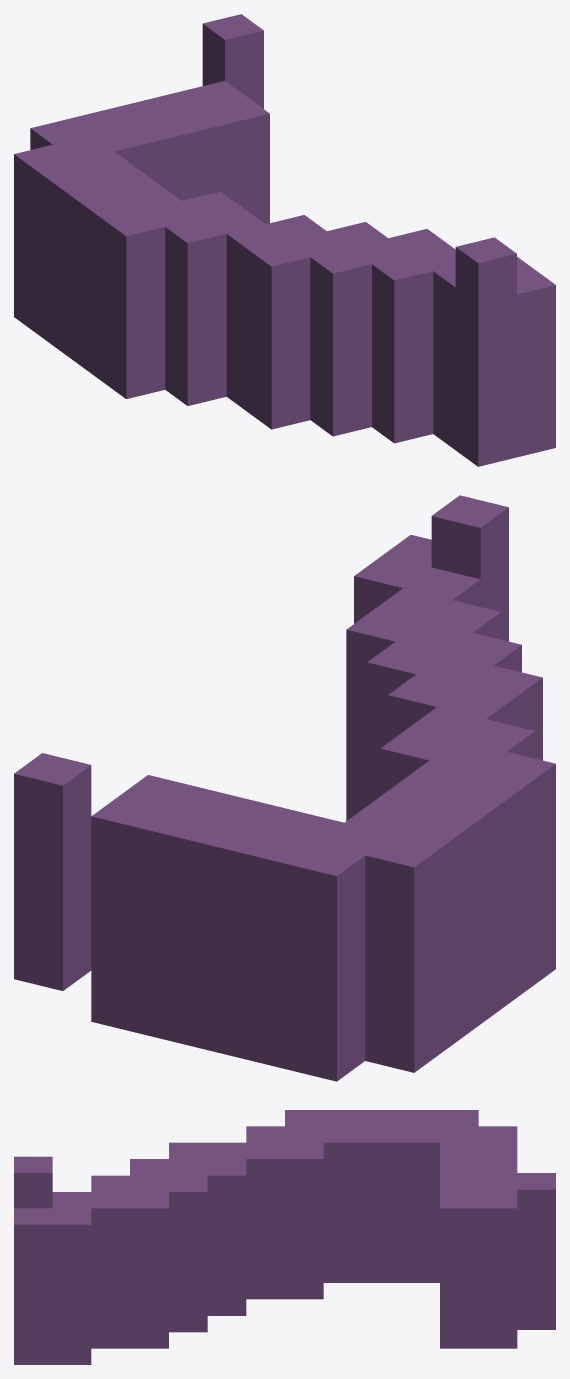
The picture shows the model from 3 angles, top to bottom: view 1: azimuth 30°, elevation 25°; view 2: azimuth 150°, elevation 25°; view 3: azimuth 270°, elevation 25°; orthographic projection. The views are drawn at different scales.
Bounding box in the file's own units: 0.35 × 0.25 × 0.7.
